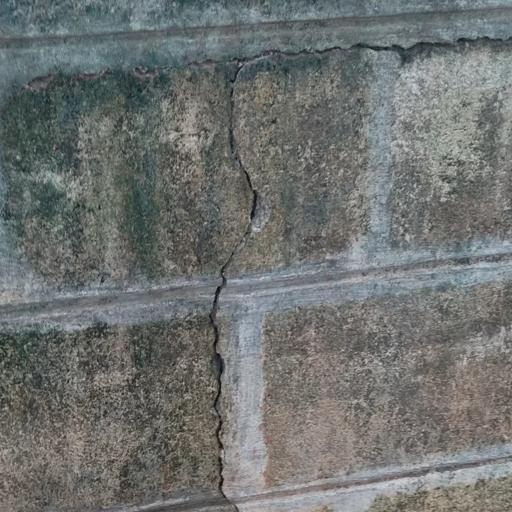major_crack: (169, 30, 511, 512)
